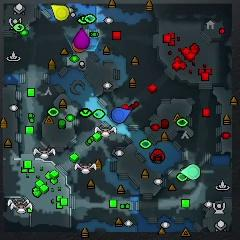p1: (112, 107, 131, 123)
p2: (181, 164, 199, 180)
p3: (73, 27, 89, 48)
p4: (51, 4, 68, 21)
p5: (73, 43, 87, 52)
